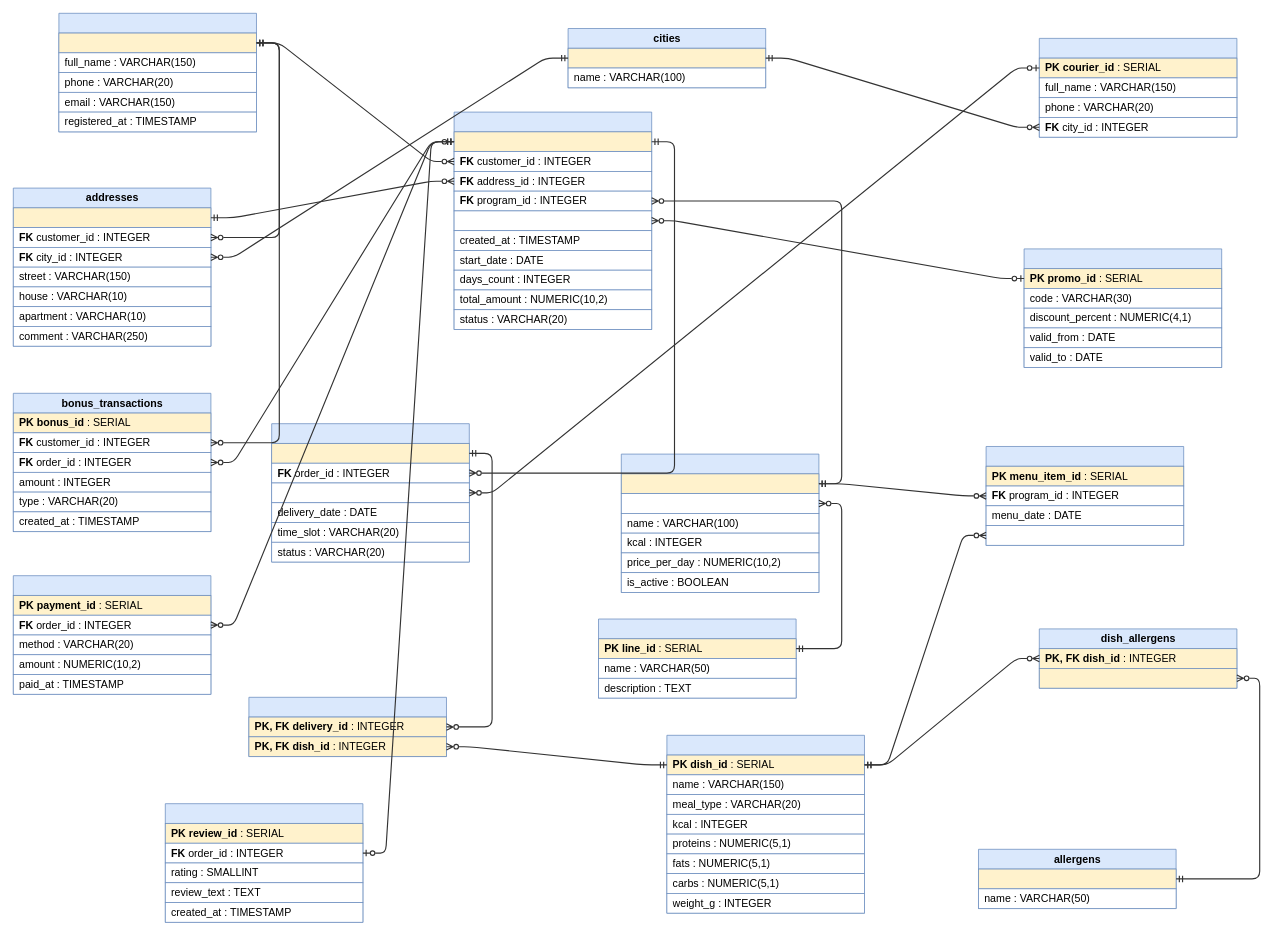
Image size: 1281x936. Some labels were removed from this diagram. The shapes that lost their labels are listed below. From the top down, each one's box as (x1, y1, x2, y2) in pixels, then its label:
(58, 32, 256, 53): PK customer_id : SERIAL
(567, 48, 766, 68): PK city_id : SERIAL
(58, 13, 256, 132): customers
(1039, 38, 1237, 137): couriers
(453, 131, 652, 152): PK order_id : SERIAL
(13, 207, 211, 228): PK address_id : SERIAL
(453, 111, 652, 329): orders
(453, 210, 652, 231): FK promo_id : INTEGER
(1023, 248, 1222, 367): promo_codes
(271, 443, 469, 463): PK delivery_id : SERIAL
(271, 423, 469, 562): deliveries
(271, 482, 469, 503): FK courier_id : INTEGER
(621, 473, 819, 494): PK program_id : SERIAL
(621, 493, 819, 513): FK line_id : INTEGER
(985, 446, 1184, 545): menu_items
(621, 453, 819, 592): programs
(985, 525, 1184, 545): FK dish_id : INTEGER
(13, 575, 211, 694): payments
(598, 618, 796, 698): program_lines
(1039, 668, 1237, 688): PK, FK allergen_id : INTEGER
(248, 697, 446, 757): delivery_items
(666, 735, 864, 913): dishes
(165, 803, 363, 922): reviews
(978, 868, 1176, 889): PK allergen_id : SERIAL
